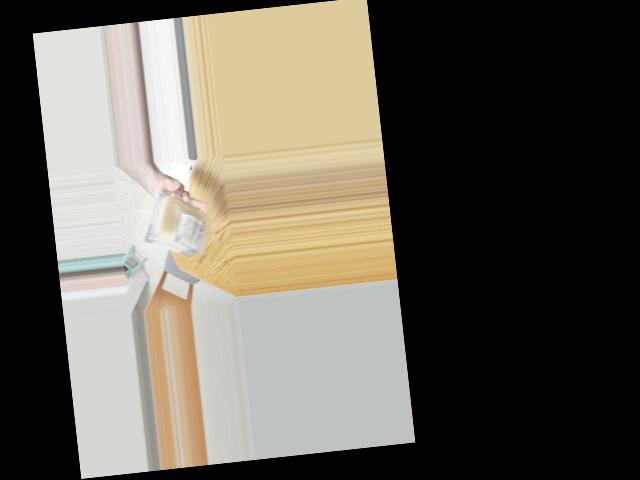cheese: (141, 203, 210, 261)
